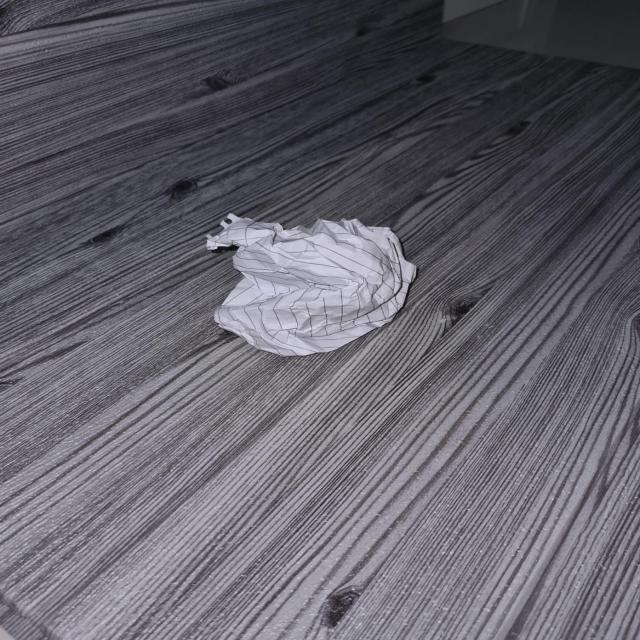kertas: (215, 214, 418, 356)
